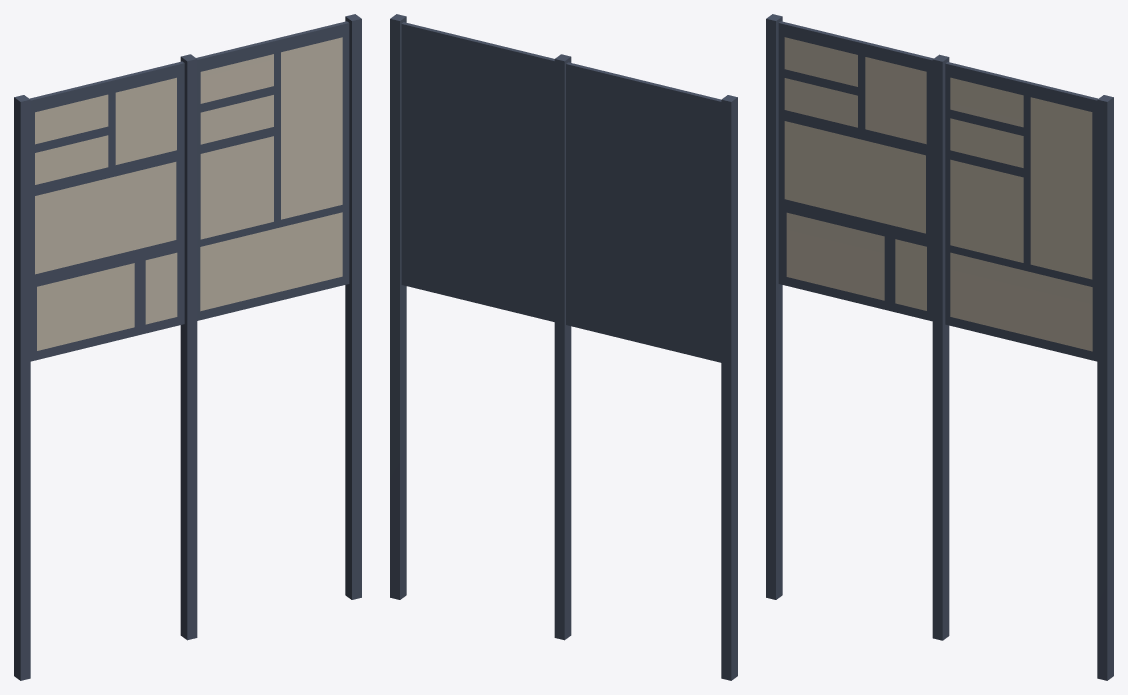
File: SM_Stand_01.fbx
3 renders of one model, left to right at view 1: azimuth 30°, elevation 25°; view 2: azimuth 150°, elevation 25°; view 3: azimuth 330°, elevation 25°, orthographic.
Visible parts, largest first — view 1: SM_Stand_01; view 2: SM_Stand_01; view 3: SM_Stand_01.
Part boxes in pixels (x1,y1,x2,y2): SM_Stand_01: (14,14,361,680); SM_Stand_01: (390,14,737,680); SM_Stand_01: (766,14,1113,680).
Size of the model in its own units: 99.02 by 161 by 3.27.
Materials: 1 (1 with a texture image).
